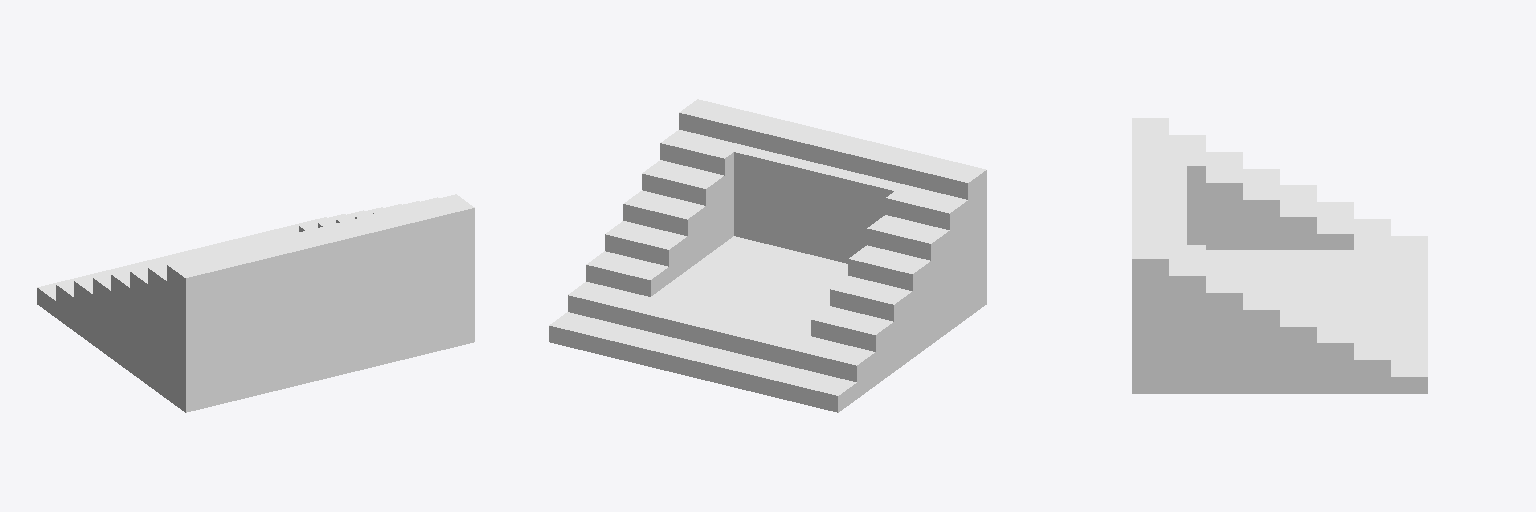
Rendered from angled_edge.obj.
3 views of the same model, side by side, from view 1: azimuth 30°, elevation 25°; view 2: azimuth 150°, elevation 25°; view 3: azimuth 270°, elevation 25° (orthographic).
Parts seen in each view (by area): view 1: object 1; view 2: object 1; view 3: object 1.
Boxes of the visible parts, box(x1,y1,x2,y2) form: object 1: box(37, 194, 474, 412); object 1: box(549, 99, 986, 412); object 1: box(1132, 118, 1427, 393).
Bounding box in the file's own units: 1.8 × 0.8 × 1.6.